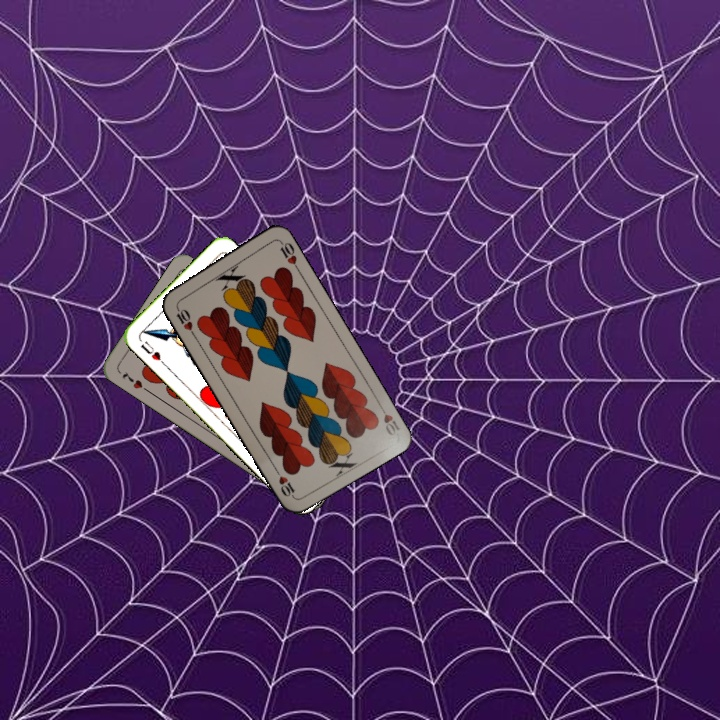H10: (374, 399, 403, 438), (172, 301, 198, 338)
H7: (118, 368, 152, 395)
HU: (136, 337, 168, 368)
